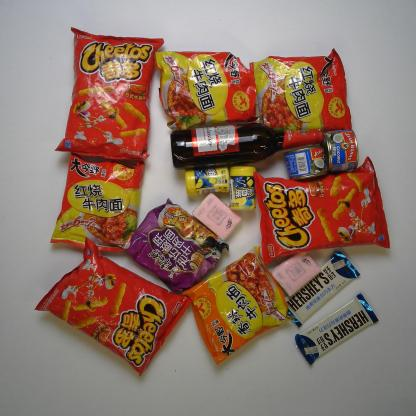Alcohol: (169, 121, 325, 170)
Canned Food: (322, 128, 360, 173), (282, 145, 328, 181)
Chocolate: (283, 250, 362, 330), (294, 292, 379, 366)
Gum: (227, 164, 258, 212), (184, 166, 230, 196)
Instant Noodles: (179, 245, 295, 366), (125, 197, 230, 294), (48, 152, 146, 253), (249, 48, 353, 132), (152, 51, 257, 131)
Puffed Food: (32, 237, 192, 377), (53, 25, 165, 162), (252, 156, 390, 266)
Tissue: (192, 192, 242, 241), (271, 250, 322, 298)
